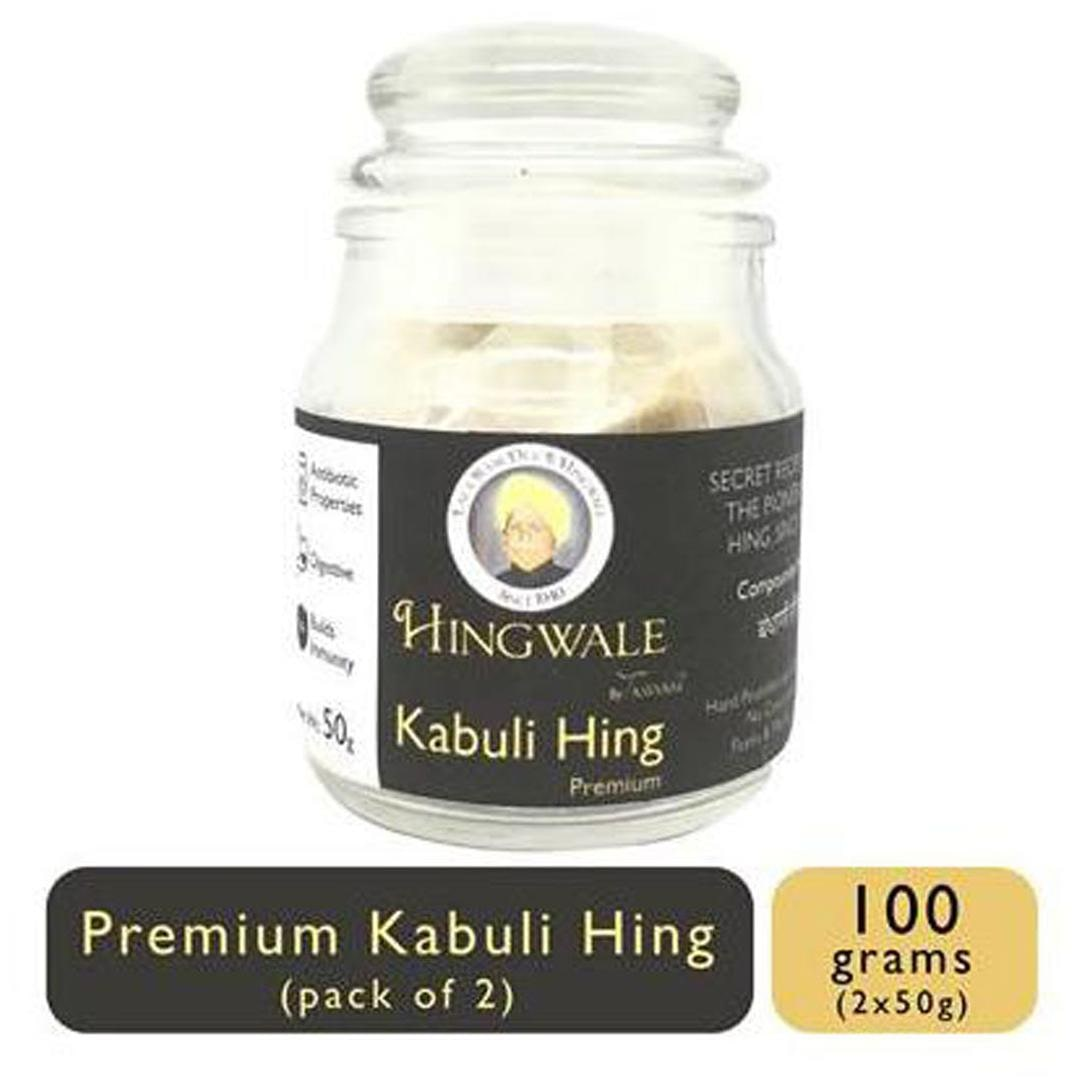JAR: (270, 13, 813, 856)
